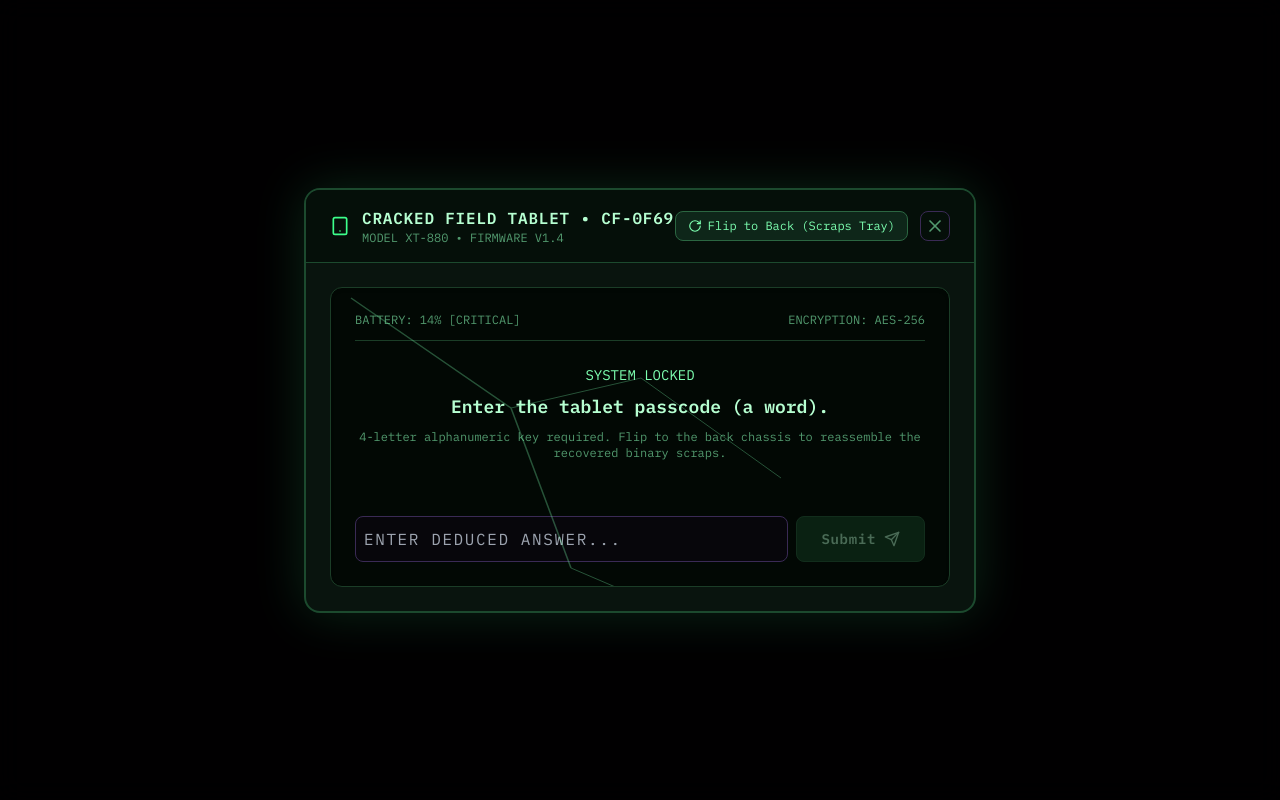
Room 2 (Daniel's Study) Comprehensive Test Suite (50 Tests) › QA-R2-FE-23: test_room2_tablet_modal_flip_button_displays_binary_note
Expected: the text "Flip to Back (Scraps Tray)" is shown, 708,218 -> 895,234
What coordinates should you click on to do the following:
click the button "Flip to Back (Scraps Tray)"
I would click on:
 (791, 226)
Its box is 675,210 -> 908,240.
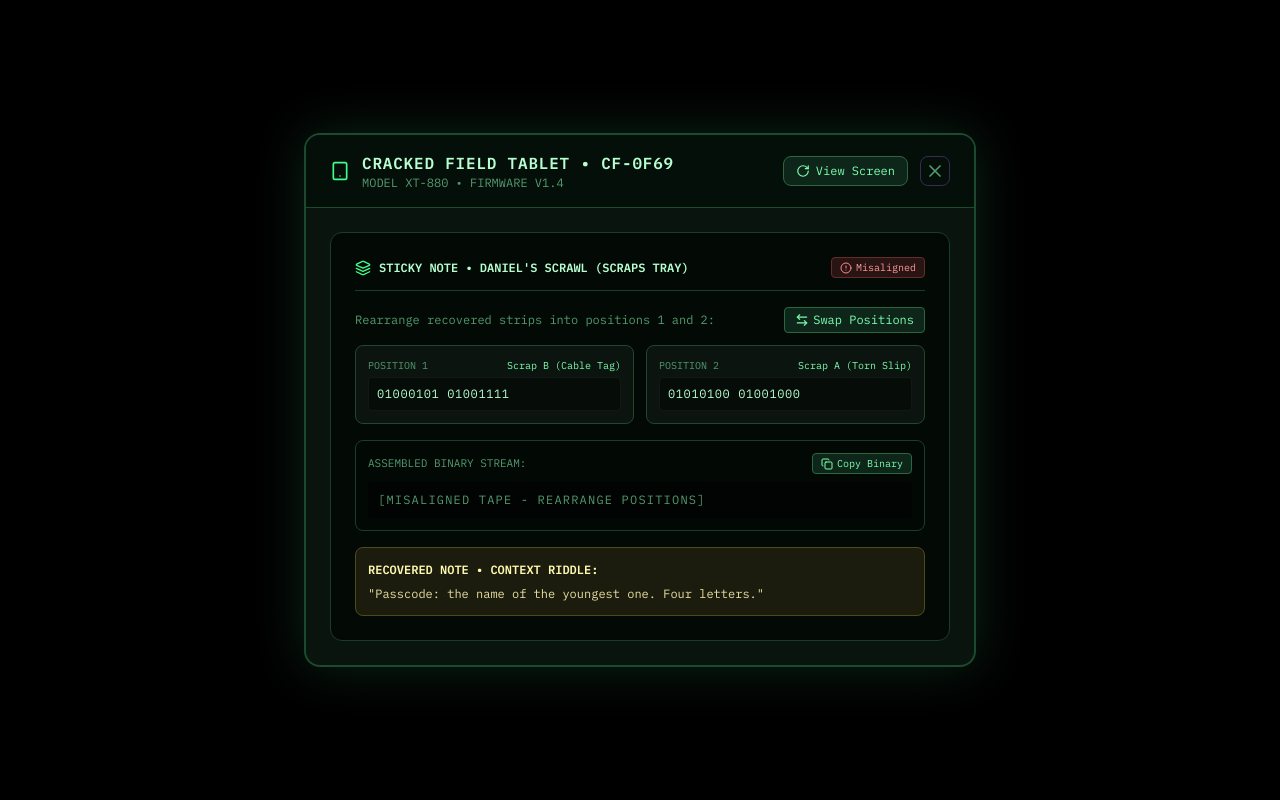
Now the text "STICKY NOTE • DANIEL'S SCRAWL (SCRAPS TRAY)" is shown, box 379,260 -> 689,276
Now the text "01010100 01001000" is shown, box 659,377 -> 912,411
